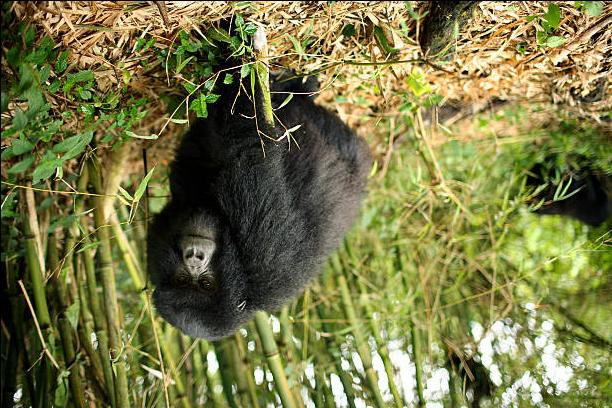goriile_montagne: (138, 56, 368, 352)
